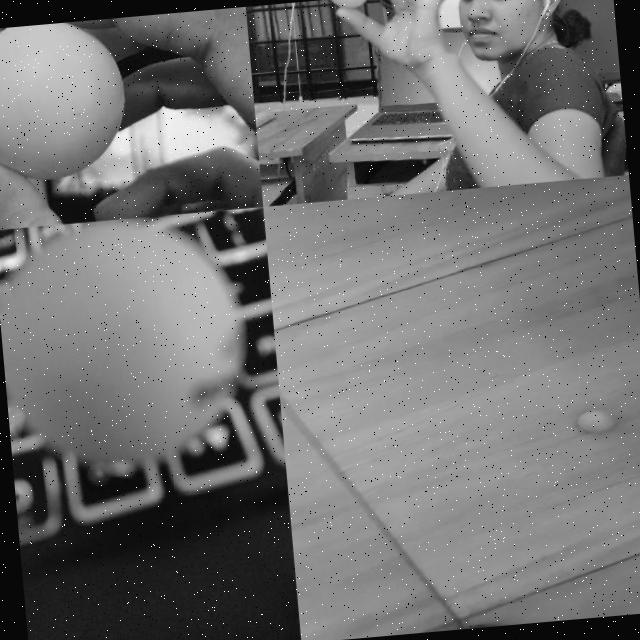ping-pong-ball: (0, 208, 255, 483), (0, 16, 132, 184), (580, 407, 616, 432), (328, 0, 373, 7)
